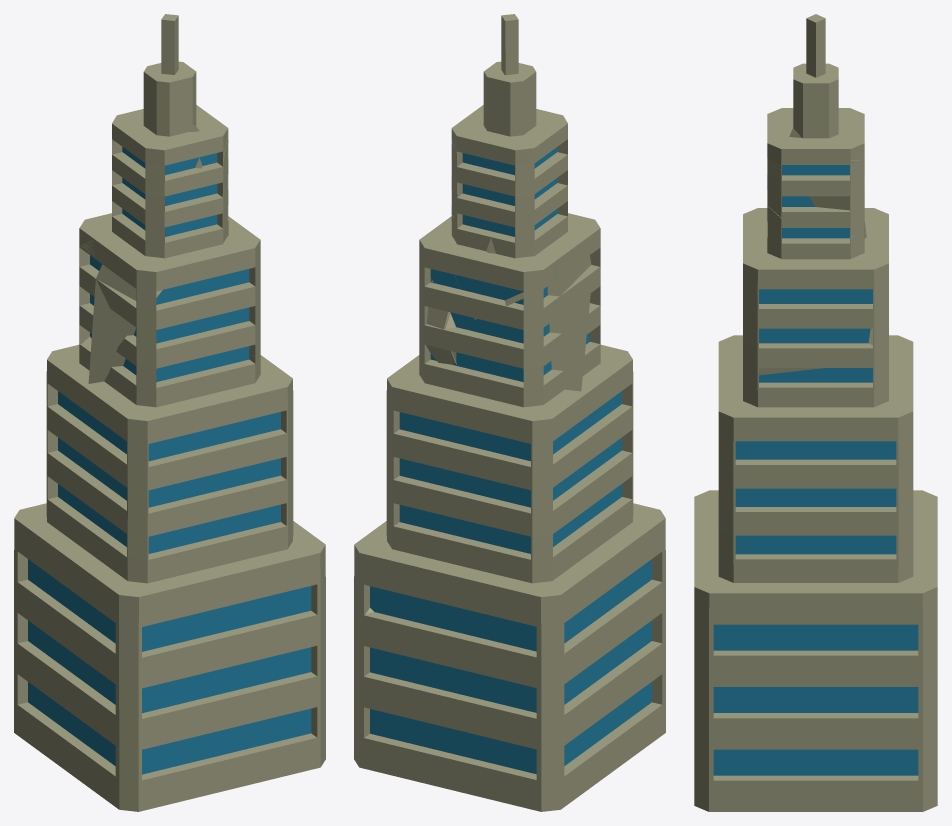
File: D_wiezowiec.fbx
3 renders of one model, left to right at view 1: azimuth 30°, elevation 25°; view 2: azimuth 150°, elevation 25°; view 3: azimuth 270°, elevation 25°, orthographic.
Parts seen in each view (by area): view 1: wiezowiec.010, wiezowiec.023, wiezowiec.045, wiezowiec.011, wiezowiec.040, wiezowiec.009, wiezowiec.015, wiezowiec.008, wiezowiec.004, wiezowiec.050, wiezowiec.001, wiezowiec.018 (+22 smaller); view 2: wiezowiec.011, wiezowiec.017, wiezowiec.048, wiezowiec.030, wiezowiec.054, wiezowiec.029, wiezowiec.060, wiezowiec.026, wiezowiec.012, wiezowiec.023, wiezowiec.059, wiezowiec.019 (+26 smaller); view 3: wiezowiec.010, wiezowiec.036, wiezowiec.001, wiezowiec.031, wiezowiec.045, wiezowiec.018, wiezowiec.030, wiezowiec.043, wiezowiec.012, wiezowiec.019, wiezowiec.050, wiezowiec.025 (+19 smaller).
Part boxes in pixels (x1,y1,x2,y2): wiezowiec.010: (177, 521, 325, 728); wiezowiec.023: (88, 257, 206, 429); wiezowiec.045: (168, 692, 325, 804); wiezowiec.011: (14, 566, 88, 727); wiezowiec.040: (94, 192, 216, 318); wiezowiec.009: (83, 687, 178, 811); wiezowiec.015: (86, 443, 201, 560); wiezowiec.008: (74, 551, 191, 688); wiezowiec.004: (112, 122, 222, 297); wiezowiec.050: (186, 450, 293, 544); wiezowiec.001: (205, 196, 260, 343); wiezowiec.018: (198, 397, 293, 483); wiezowiec.011: (452, 618, 628, 804); wiezowiec.017: (440, 401, 591, 535); wiezowiec.048: (437, 519, 610, 623); wiezowiec.030: (354, 672, 467, 792); wiezowiec.054: (434, 319, 561, 447); wiezowiec.029: (440, 545, 623, 667); wiezowiec.060: (453, 708, 631, 811); wiezowiec.026: (434, 221, 558, 319); wiezowiec.012: (354, 500, 459, 595); wiezowiec.023: (547, 248, 632, 391); wiezowiec.059: (354, 562, 452, 671); wiezowiec.019: (386, 334, 456, 465); wiezowiec.010: (694, 570, 865, 776); wiezowiec.036: (718, 368, 877, 500); wiezowiec.001: (743, 206, 882, 369); wiezowiec.031: (852, 615, 937, 749); wiezowiec.045: (694, 749, 849, 811); wiezowiec.018: (718, 422, 841, 522); wiezowiec.030: (846, 726, 937, 811); wiezowiec.043: (767, 145, 855, 237); wiezowiec.012: (860, 523, 937, 610); wiezowiec.019: (866, 360, 913, 505); wiezowiec.050: (718, 500, 867, 561); wiezowiec.025: (752, 294, 880, 375).
Size of the model in its own units: 400 by 1347 by 400.
